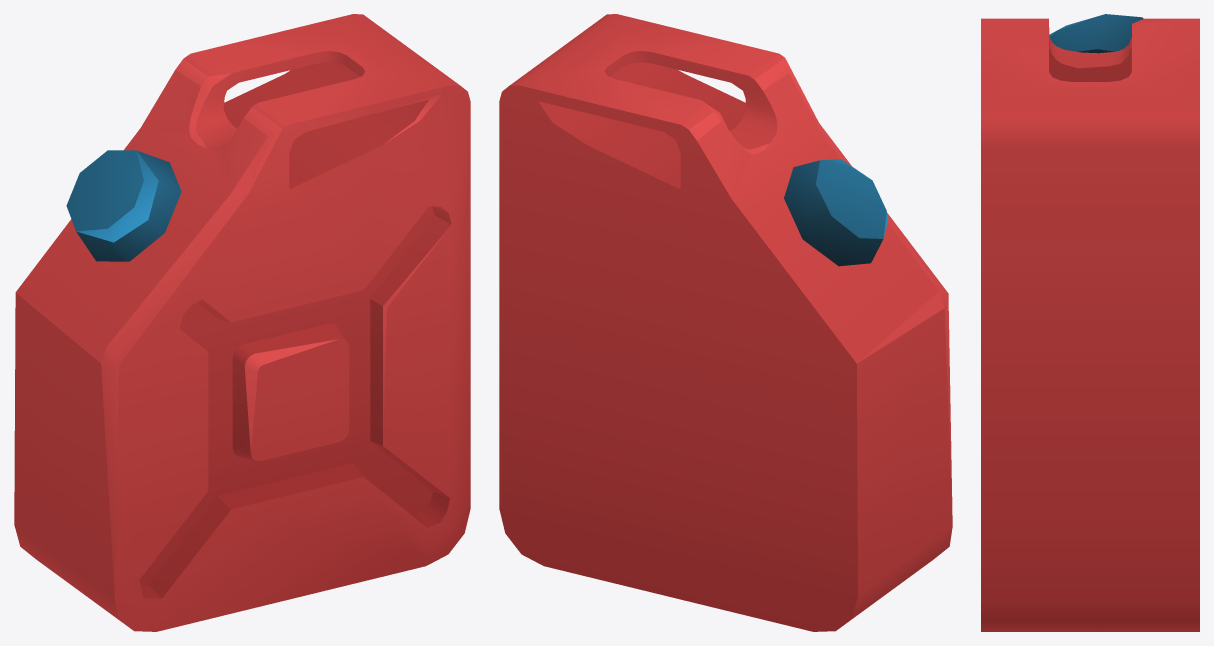
Rendered from gas.glb.
The picture shows the model from 3 angles, left to right: view 1: azimuth 30°, elevation 25°; view 2: azimuth 150°, elevation 25°; view 3: azimuth 270°, elevation 25°; orthographic projection. The views are drawn at different scales.
Visible parts, largest first — view 1: gas; view 2: gas; view 3: gas.
Part boxes in pixels (bbox=[...]): gas: bbox=[14, 14, 470, 631]; gas: bbox=[499, 14, 952, 631]; gas: bbox=[981, 14, 1199, 631].
Bounding box in the file's own units: 0.3089 × 0.3906 × 0.1454.
Materials: 1 (1 with a texture image).
